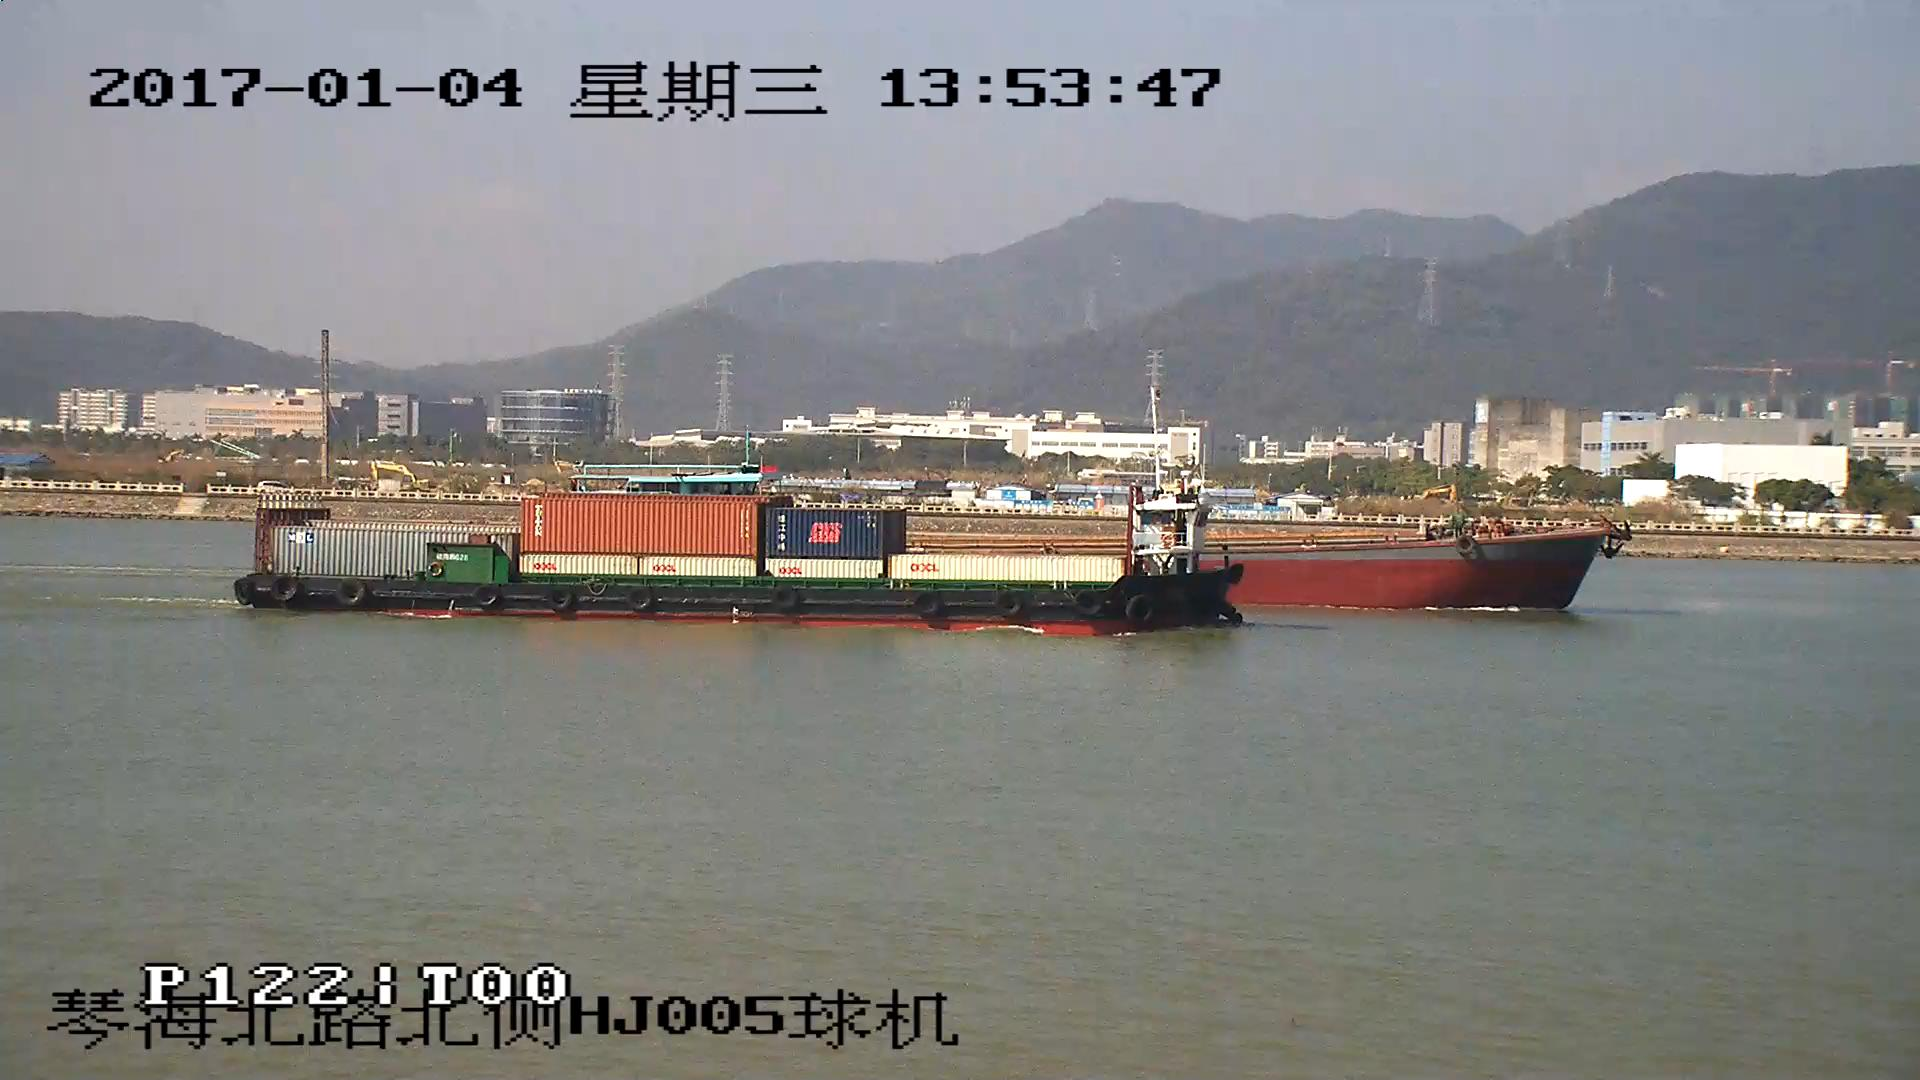bulk cargo carrier: (1238, 507, 1619, 614)
container ship: (242, 489, 1247, 624)
